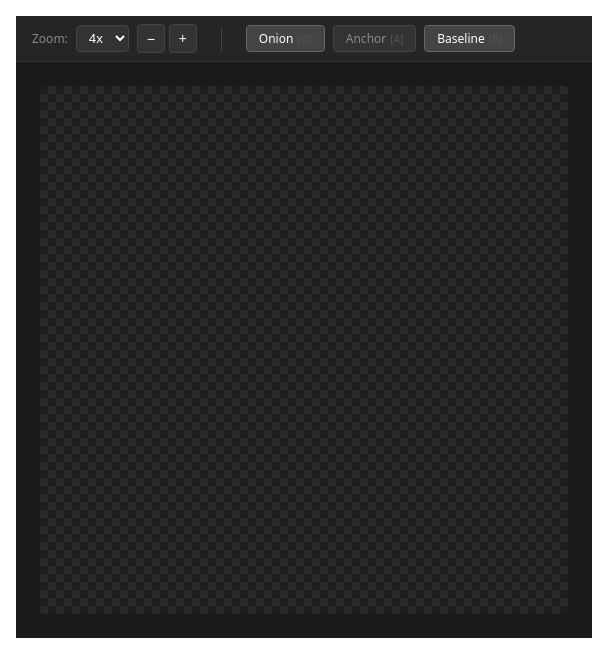
Scenario: Stage Component (Story 7.3) › Anchor Overlay Toggle (AC #3) › should toggle anchor overlay when button clicked
Click the button with aria-label "toggle anchor overlay": [375, 38] box [333, 25, 416, 52]
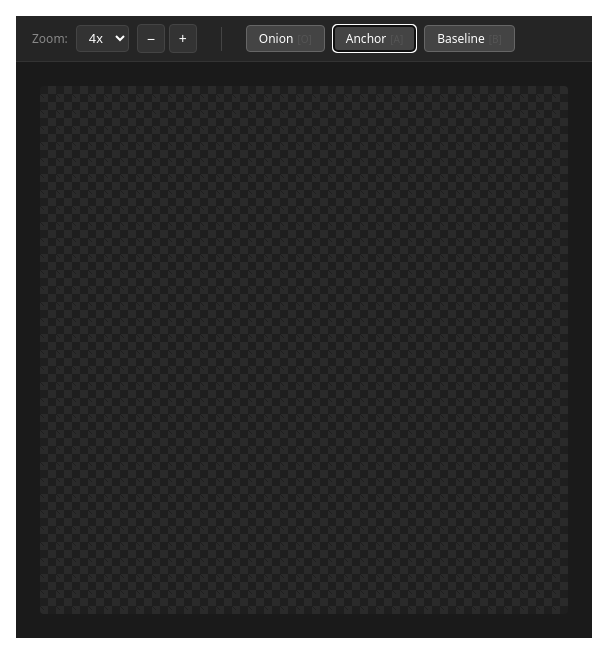
Expected: the button with aria-label "toggle anchor overlay" is pressed, [333, 25, 416, 52]
